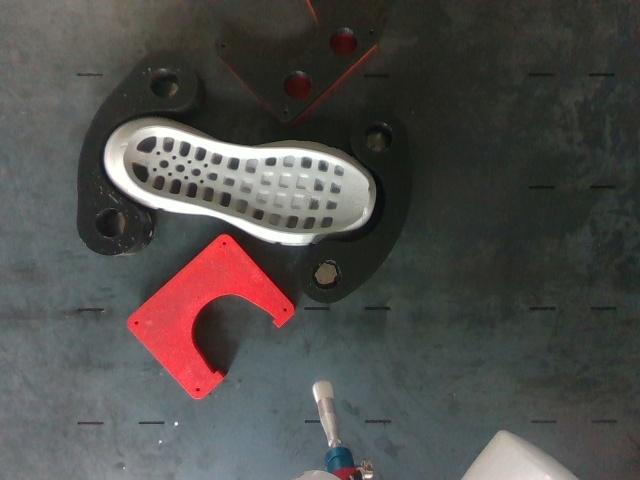shoes: (123, 125, 369, 234)
